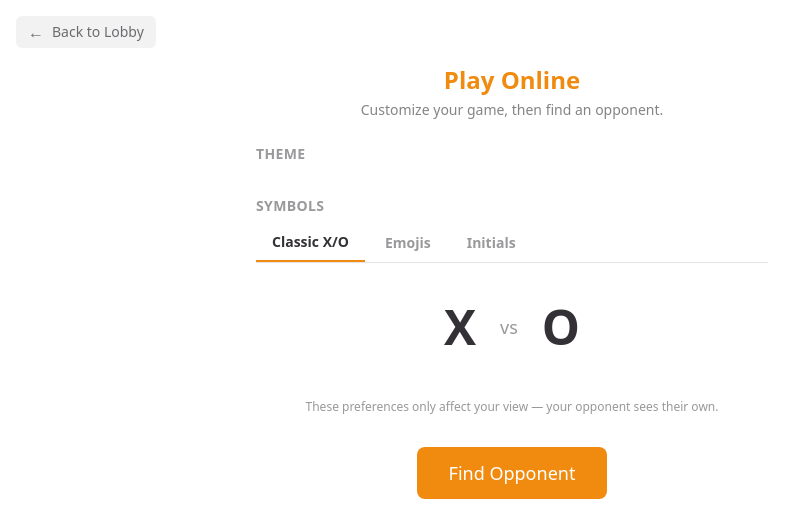
it: Matchmaking › surfaces connection-lost error on disconnect
What coordinates should you click on to do the following:
click the button "Find Opponent"
I would click on:
 (512, 473)
Its box is [417, 447, 608, 499].
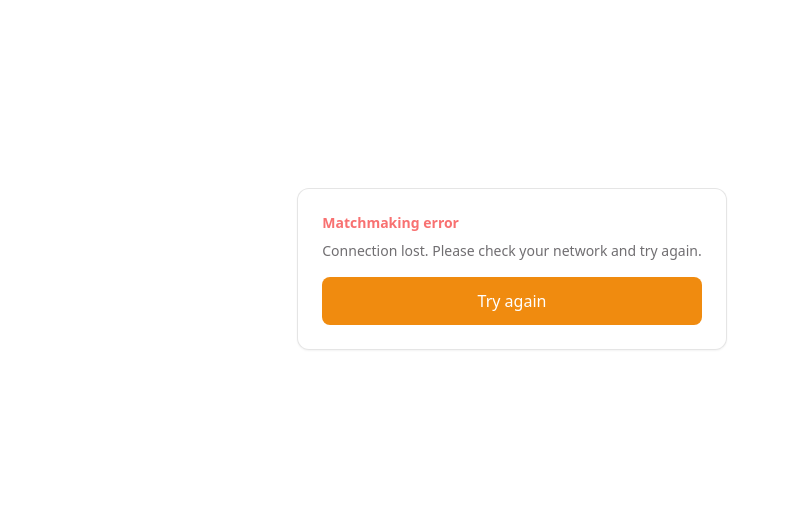
Check: the text "Connection lost. Please check your network and try again." is shown, box [322, 241, 702, 261]
Check: the button "Try again" is shown, box [322, 277, 702, 325]
